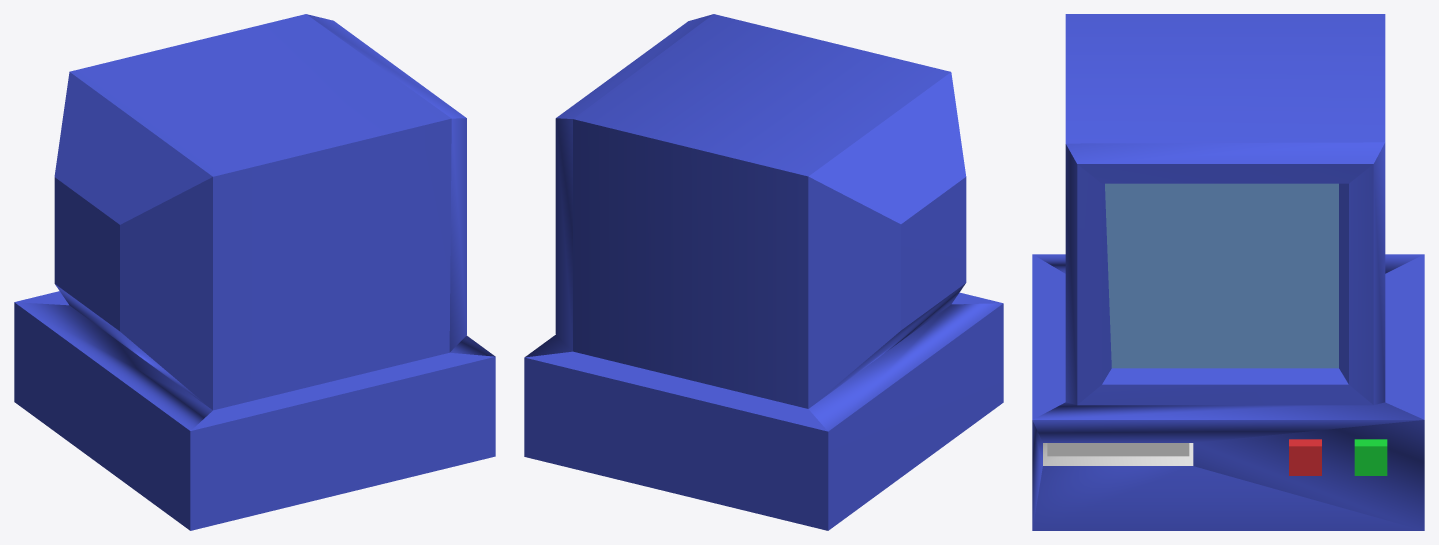
Rendered from mono_pc.fbx.
3 renders of one model, left to right at view 1: azimuth 30°, elevation 25°; view 2: azimuth 150°, elevation 25°; view 3: azimuth 270°, elevation 25°, orthographic. The views are drawn at different scales.
Visible parts, largest first — view 1: mono_pc; view 2: mono_pc; view 3: mono_pc.
Part boxes in pixels (box(x1,y1,x2,y2)): mono_pc: box(14, 14, 495, 530); mono_pc: box(524, 14, 1003, 530); mono_pc: box(1032, 14, 1424, 530).
Bounding box in the file's own units: 154 × 147 × 141.
